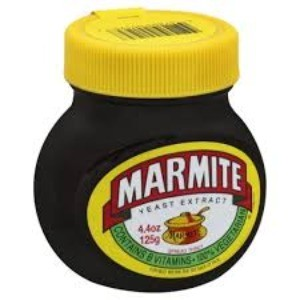yeast spread_brain food: (43, 87, 252, 241)
